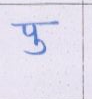u_matra: (25, 39, 49, 56)
